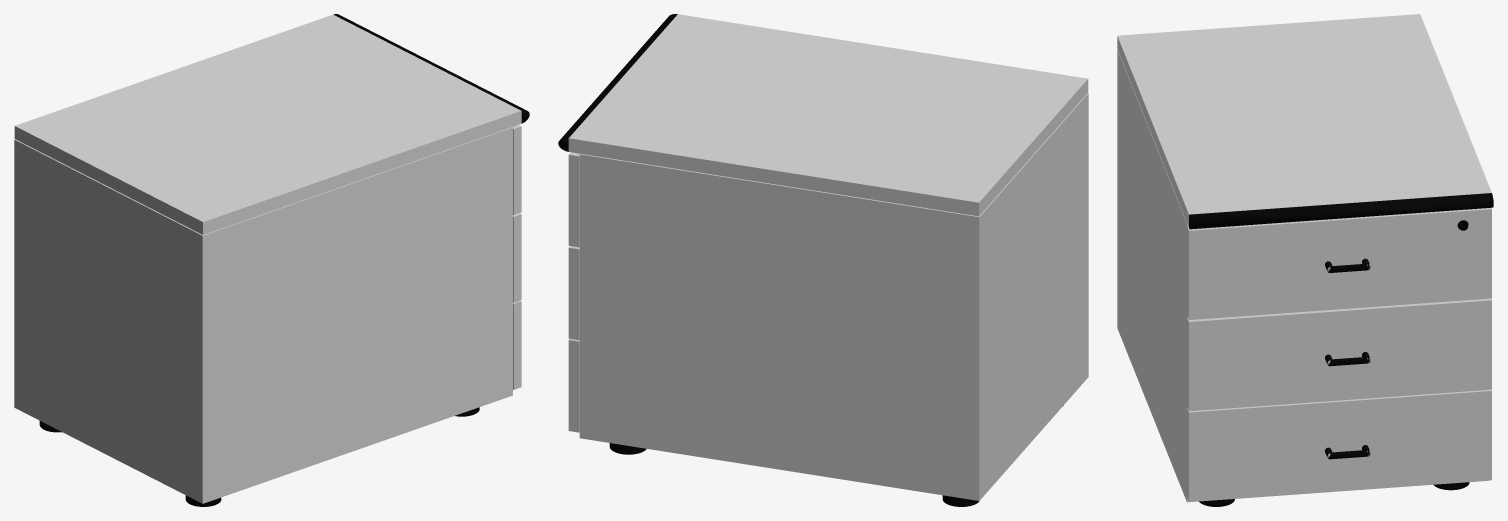
The model's file is ScrivaniaLelloCassetti.gltf.
3 renders of one model, left to right at view 1: azimuth 30°, elevation 25°; view 2: azimuth 150°, elevation 25°; view 3: azimuth 270°, elevation 25°, orthographic. The views are drawn at different scales.
Parts seen in each view (by area): view 1: Lello Cassettiera; view 2: Lello Cassettiera; view 3: Lello Cassettiera.
Boxes of the visible parts, box(x1,y1,x2,y2) form: Lello Cassettiera: box(14, 14, 529, 506); Lello Cassettiera: box(558, 14, 1088, 506); Lello Cassettiera: box(1117, 14, 1493, 506).
Size of the model in its own units: 0.6562 by 0.4593 by 0.5085.
Materials: 3 (1 with a texture image).
